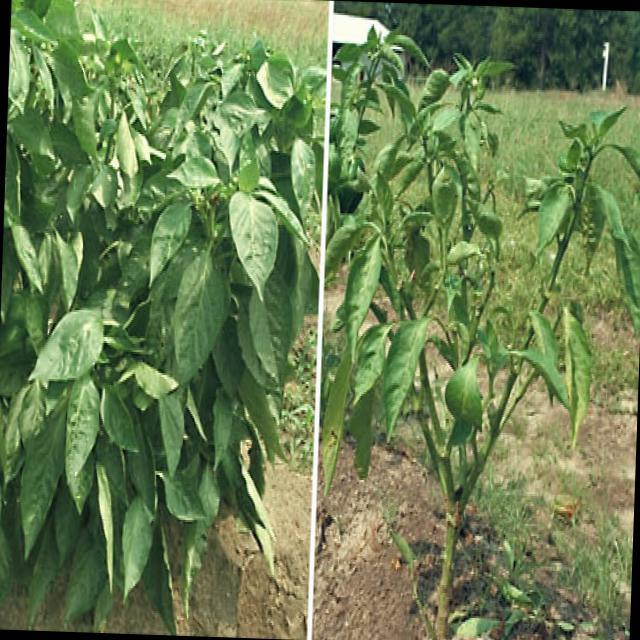Tomato bacterial spot leaf: (16, 370, 90, 558), (168, 231, 238, 381), (373, 312, 428, 448), (318, 330, 363, 496), (24, 302, 106, 392), (224, 182, 282, 306), (556, 296, 599, 462), (336, 217, 382, 360), (142, 196, 194, 302), (116, 483, 155, 604), (150, 370, 190, 486), (63, 373, 98, 492), (441, 356, 482, 452), (153, 460, 204, 532), (531, 176, 574, 256), (48, 224, 84, 306), (425, 112, 464, 140)
